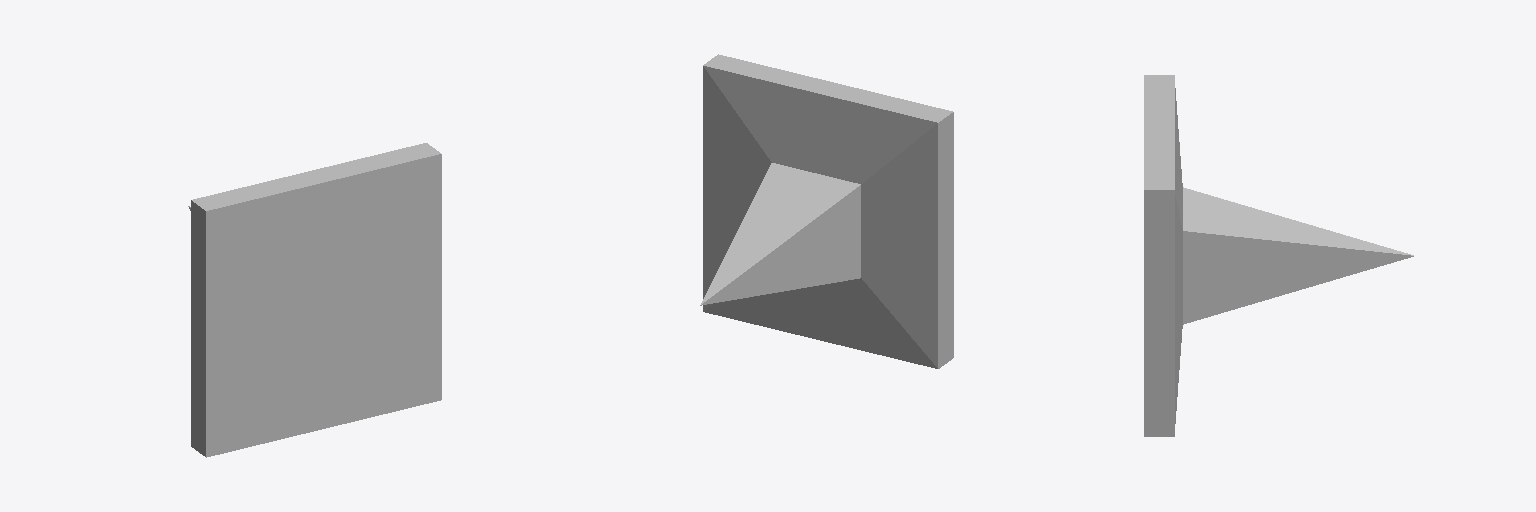
Rendered from spot.obj.
The picture shows the model from 3 angles: view 1: azimuth 30°, elevation 25°; view 2: azimuth 150°, elevation 25°; view 3: azimuth 270°, elevation 25°; orthographic projection.
Visible parts, largest first — view 1: Cube; view 2: Cube; view 3: Cube.
Part boxes in pixels (x1,y1,x2,y2): Cube: (188,143,441,457); Cube: (700,54,953,368); Cube: (1144,75,1413,436).
Size of the model in its own units: 0.5 by 0.5 by 0.5.